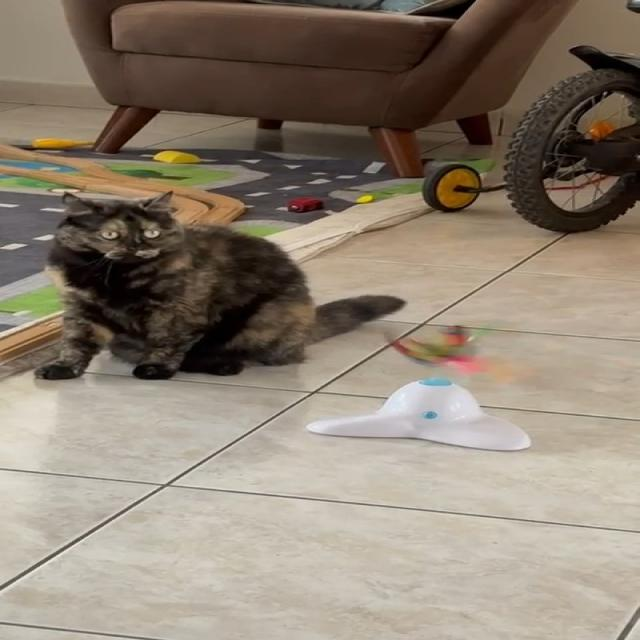authorized: (33, 190, 407, 380)
